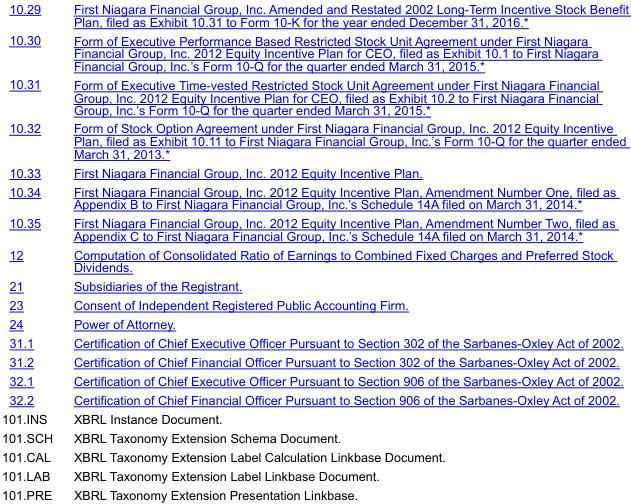table: (0, 1, 628, 501)
table column: (62, 1, 628, 501), (0, 1, 62, 501)
table row: (0, 74, 628, 119), (0, 30, 628, 74), (0, 119, 628, 162), (0, 181, 628, 213), (0, 244, 628, 276), (0, 213, 628, 244), (0, 1, 628, 30), (0, 162, 628, 181), (0, 276, 628, 295), (0, 295, 628, 314), (0, 314, 628, 333), (0, 333, 628, 352), (0, 352, 628, 371), (0, 371, 628, 390), (0, 390, 628, 409), (0, 427, 628, 446), (0, 446, 628, 465), (0, 465, 628, 484), (0, 409, 628, 427), (0, 484, 628, 501)
